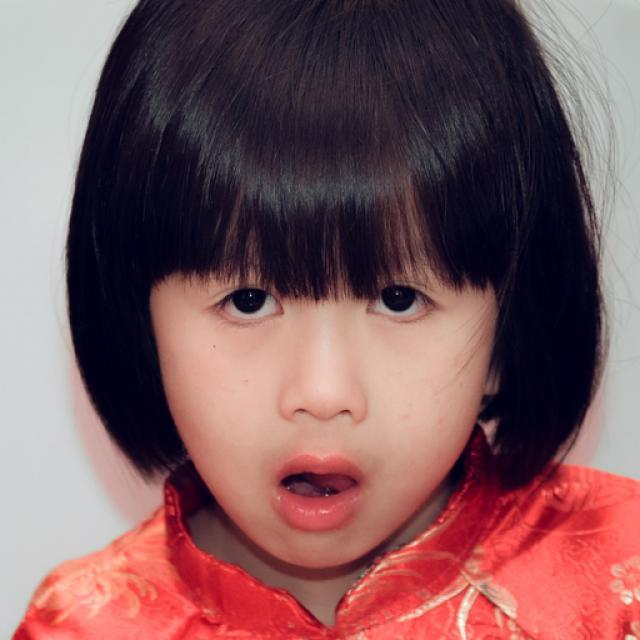surprise: (150, 171, 502, 571)
